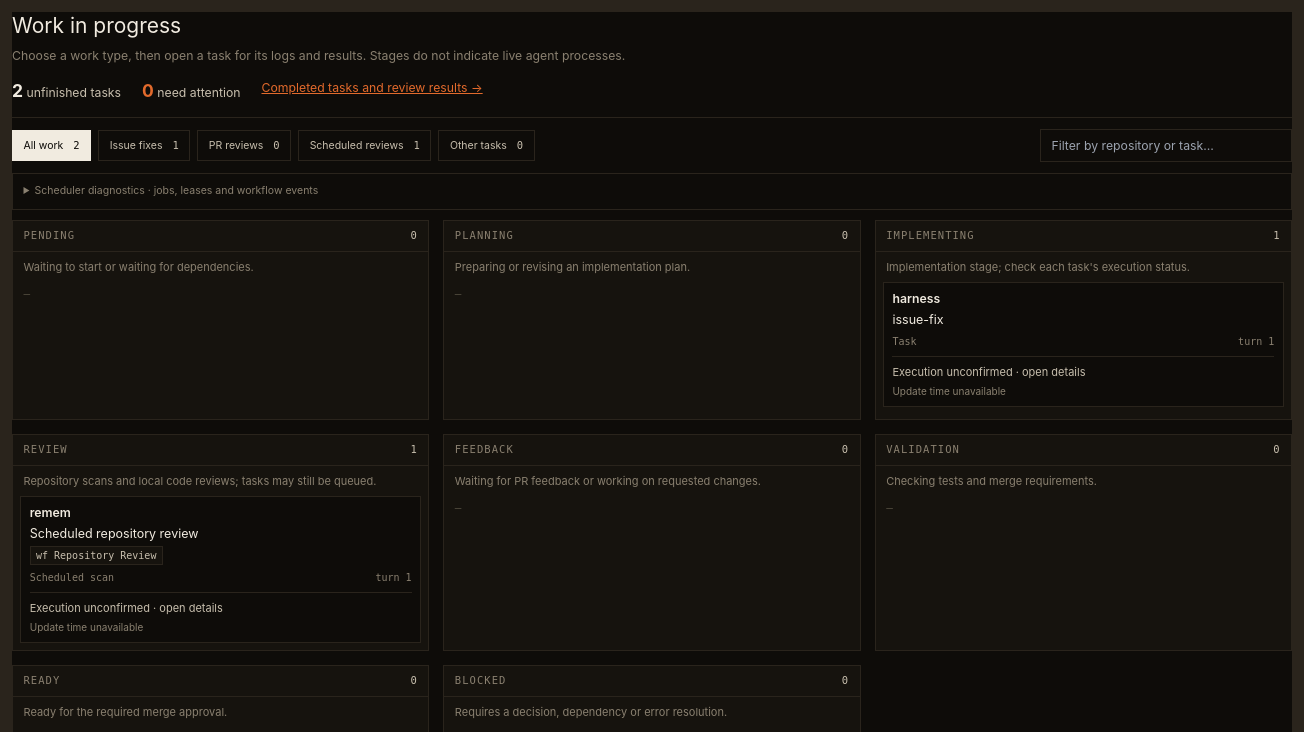
Test: <Active> › separates scheduled reviews, names the repository and filters by work type
The width and height of the screenshot is (1304, 732).
Check: the text "remem" is shown, box [30,505,71,520]
Click the button "Scheduled reviews 1" at (365, 145), box [298,130,431,161]
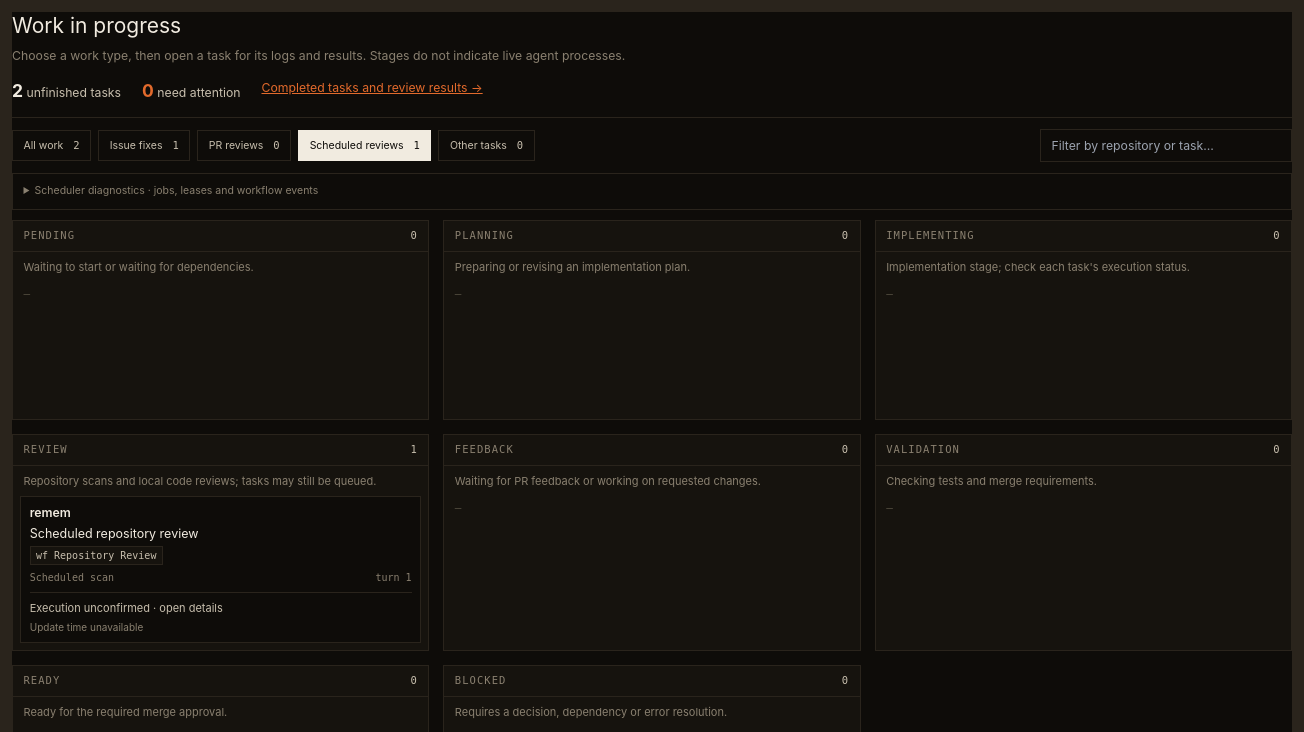
Check: the text "Scheduled repository review" is shown, box [30,526,198,541]
Check: the button "issue-fix" is gone
Type "harness" into the field named "Filter tasks" at (1166, 145), box [1040,128,1292,162]
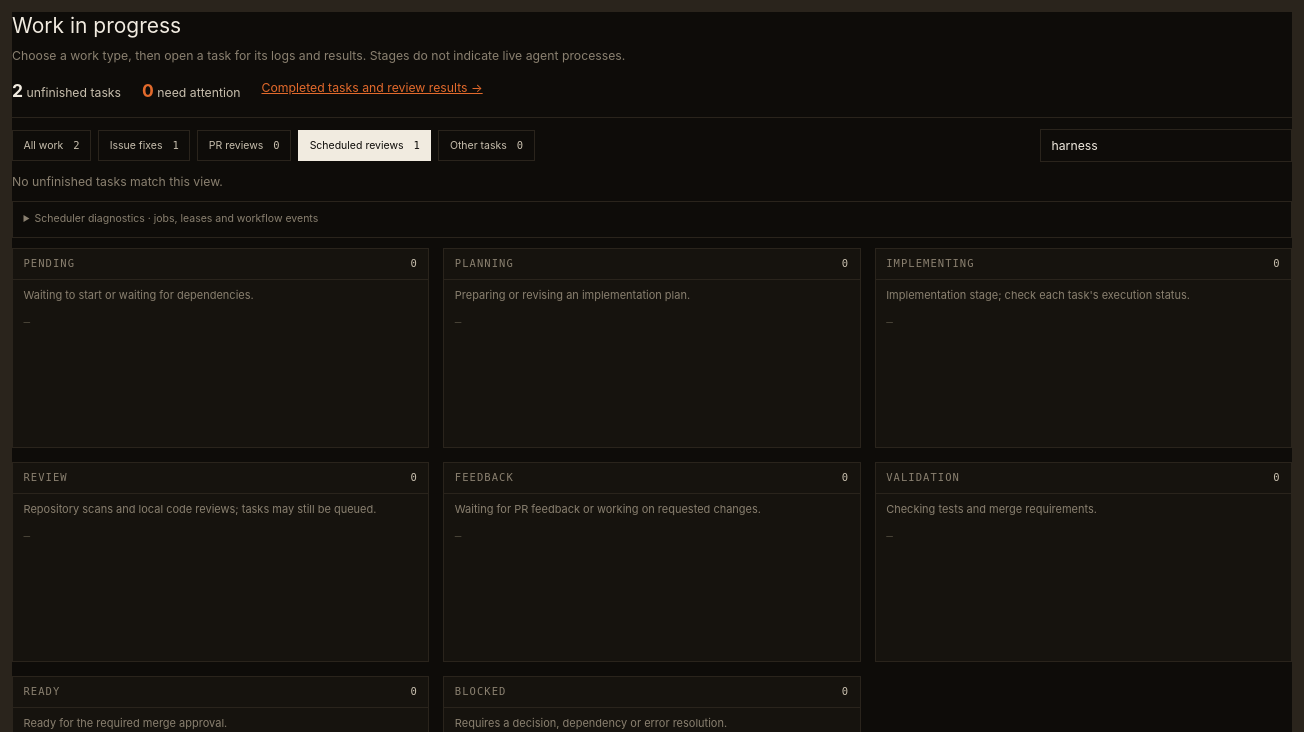
Check: the text "No unfinished tasks match this view." is shown, box [12,174,223,188]
